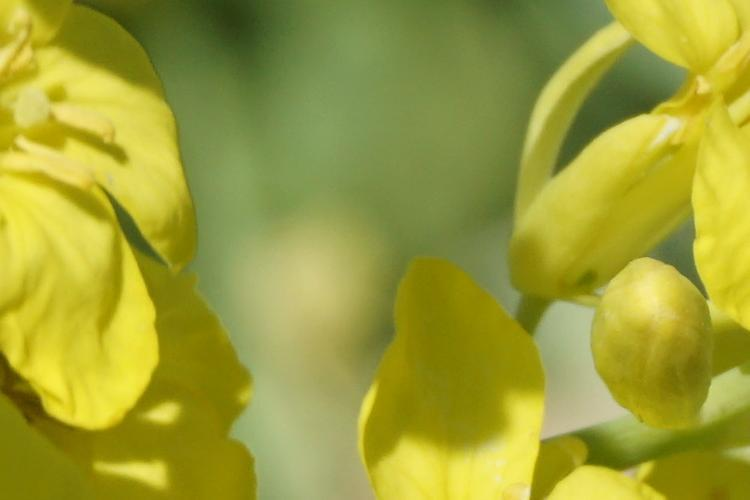bud: (588, 257, 729, 440)
yellow: (6, 7, 198, 407), (9, 259, 264, 491), (542, 27, 749, 279), (382, 266, 554, 497)
